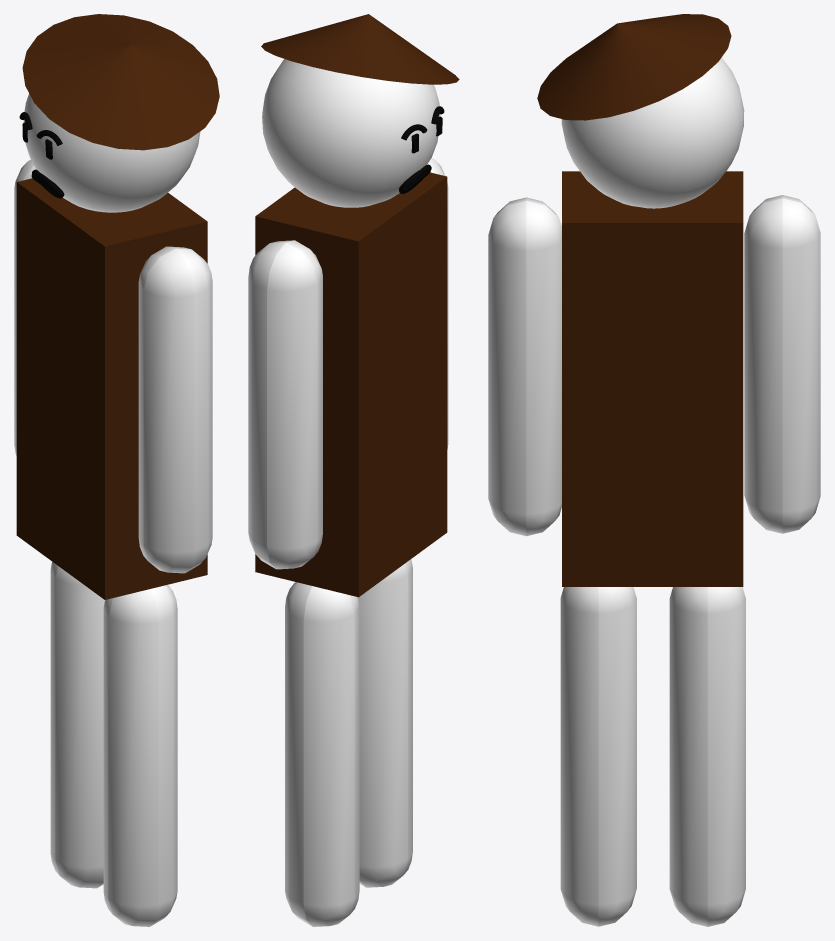
File: Wang.DAE
3 views of the same model, side by side, from view 1: azimuth 30°, elevation 25°; view 2: azimuth 150°, elevation 25°; view 3: azimuth 270°, elevation 25° (orthographic). The views are drawn at different scales.
Parts seen in each view (by area): view 1: Body, Leg Right, Arm Right, Hat, Leg Left, Head, Arm Left; view 2: Body, Leg Left, Arm Left, Head, Leg Right, Hat, Arm Right; view 3: Body, Leg Left, Leg Right, Arm Left, Arm Right, Head, Hat.
Part boxes in pixels (<box>): Body: <box>16,178,207,599</box>; Leg Right: <box>103,585,177,926</box>; Arm Right: <box>138,246,212,573</box>; Hat: <box>22,14,219,150</box>; Leg Left: <box>50,562,105,888</box>; Head: <box>23,93,200,212</box>; Arm Left: <box>14,159,35,455</box>; Body: <box>255,172,447,597</box>; Leg Left: <box>285,582,359,926</box>; Arm Left: <box>248,240,322,569</box>; Head: <box>262,59,440,207</box>; Leg Right: <box>357,559,412,887</box>; Hat: <box>261,14,459,84</box>; Arm Right: <box>427,158,448,449</box>; Body: <box>562,171,743,586</box>; Leg Left: <box>669,587,745,926</box>; Leg Right: <box>560,587,636,926</box>; Arm Left: <box>744,195,820,533</box>; Arm Right: <box>488,197,561,536</box>; Head: <box>561,57,744,208</box>; Hat: <box>537,14,731,120</box>.
Bounding box in the file's own units: 67.5 × 325 × 109.
